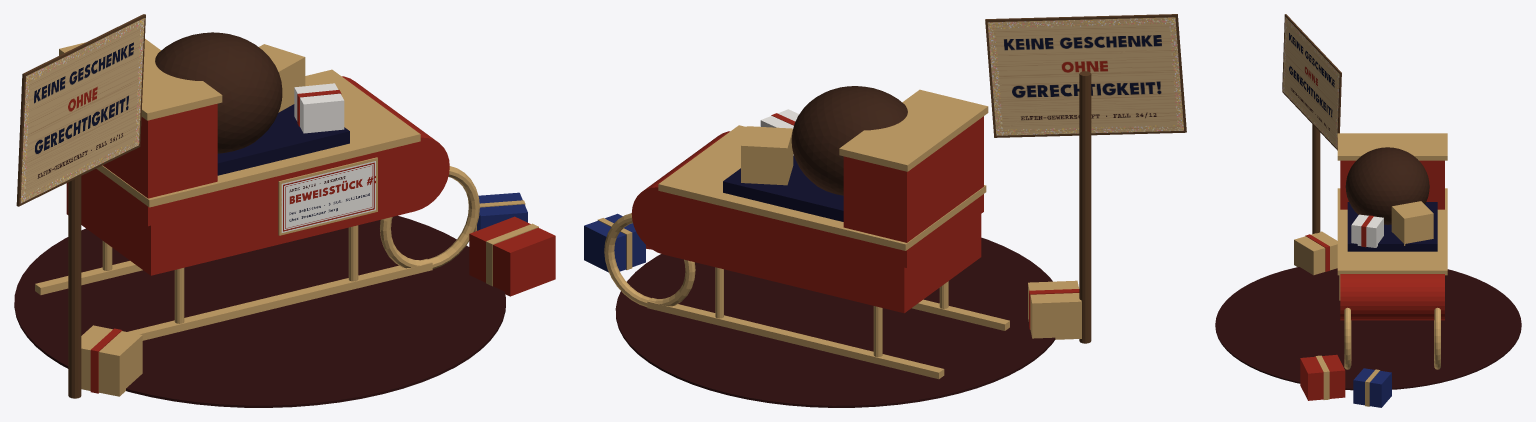
File: beweis_schlitten.glb
3 renders of one model, left to right at view 1: azimuth 30°, elevation 25°; view 2: azimuth 150°, elevation 25°; view 3: azimuth 270°, elevation 25°, orthographic. The views are drawn at different scales.
Visible parts, largest first — view 1: boden, wanne, schild_vorn, sack, lehne, leiste1, boden0, tag, kufe1, bug, polster, leiste2 (+13 smaller); view 2: boden, schild_hinten, wanne, lehne, sack, leiste1, leiste2, kufe0, pfosten, bug, polster, geschenk1 (+5 smaller); view 3: boden, bug, sack, schild_vorn, leiste1, leiste2, boden0, geschenk1, polster, boden2, lehne, boden1 (+6 smaller).
Boxes of the visible parts, box(x1,y1,x2,y2) form: boden: box(14, 215, 505, 407); wanne: box(66, 143, 414, 275); schild_vorn: box(20, 18, 144, 203); sack: box(155, 32, 282, 153); lehne: box(81, 103, 217, 226); leiste1: box(96, 69, 420, 207); boden0: box(469, 216, 555, 296); tag: box(281, 161, 375, 232); kufe1: box(128, 259, 432, 340); bug: box(342, 76, 449, 211); polster: box(217, 104, 349, 175); leiste2: box(59, 39, 222, 120); boden: box(615, 237, 1055, 407); schild_hinten: box(987, 17, 1183, 135); wanne: box(663, 194, 981, 313); lehne: box(843, 116, 983, 267); sack: box(791, 86, 907, 195); leiste1: box(658, 125, 986, 250); leiste2: box(839, 89, 988, 171); kufe0: box(647, 298, 944, 379); pfosten: box(1079, 71, 1091, 343); bug: box(631, 131, 729, 255); polster: box(723, 155, 843, 221); geschenk1: box(741, 126, 793, 185); boden: box(1215, 267, 1521, 390); bug: box(1340, 274, 1444, 320); sack: box(1345, 147, 1429, 224); schild_vorn: box(1282, 17, 1339, 148); leiste1: box(1337, 188, 1447, 275); leiste2: box(1337, 133, 1447, 160); boden0: box(1300, 354, 1345, 400); geschenk1: box(1391, 201, 1433, 245); polster: box(1347, 202, 1437, 251); boden2: box(1294, 231, 1337, 275); lehne: box(1340, 160, 1444, 209); boden1: box(1353, 368, 1391, 407).
Size of the model in its own units: 2.59 by 1.53 by 1.9.
10 materials, 2 textured.
